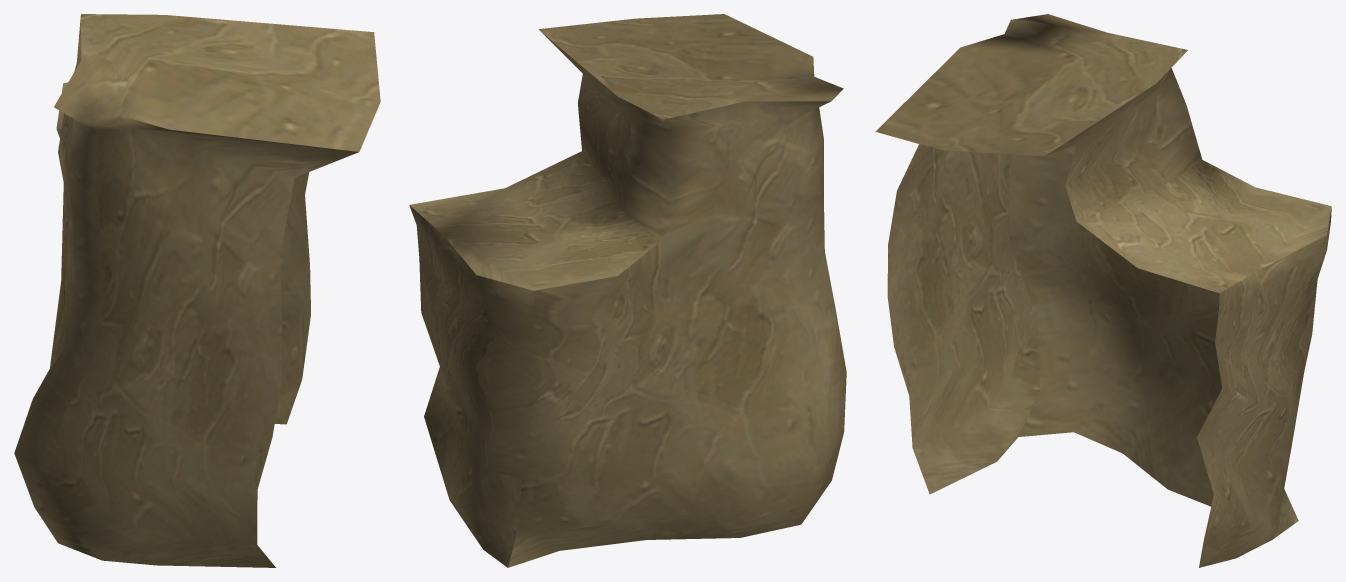
File: MIRKWOOD_MIRK_PLAYSURFACE14.fbx
The picture shows the model from 3 angles, left to right: view 1: azimuth 30°, elevation 25°; view 2: azimuth 150°, elevation 25°; view 3: azimuth 270°, elevation 25°; orthographic projection. The views are drawn at different scales.
Parts seen in each view (by area): view 1: MIRKWOOD_MIRK_PLAYSURFACE14; view 2: MIRKWOOD_MIRK_PLAYSURFACE14; view 3: MIRKWOOD_MIRK_PLAYSURFACE14.
Boxes of the visible parts, x1,y1,x2,y2 form: MIRKWOOD_MIRK_PLAYSURFACE14: (14, 14, 380, 567); MIRKWOOD_MIRK_PLAYSURFACE14: (409, 14, 846, 567); MIRKWOOD_MIRK_PLAYSURFACE14: (875, 14, 1331, 567).
Size of the model in its own units: 36305 by 43163 by 41682.
Materials: 1 (1 with a texture image).
